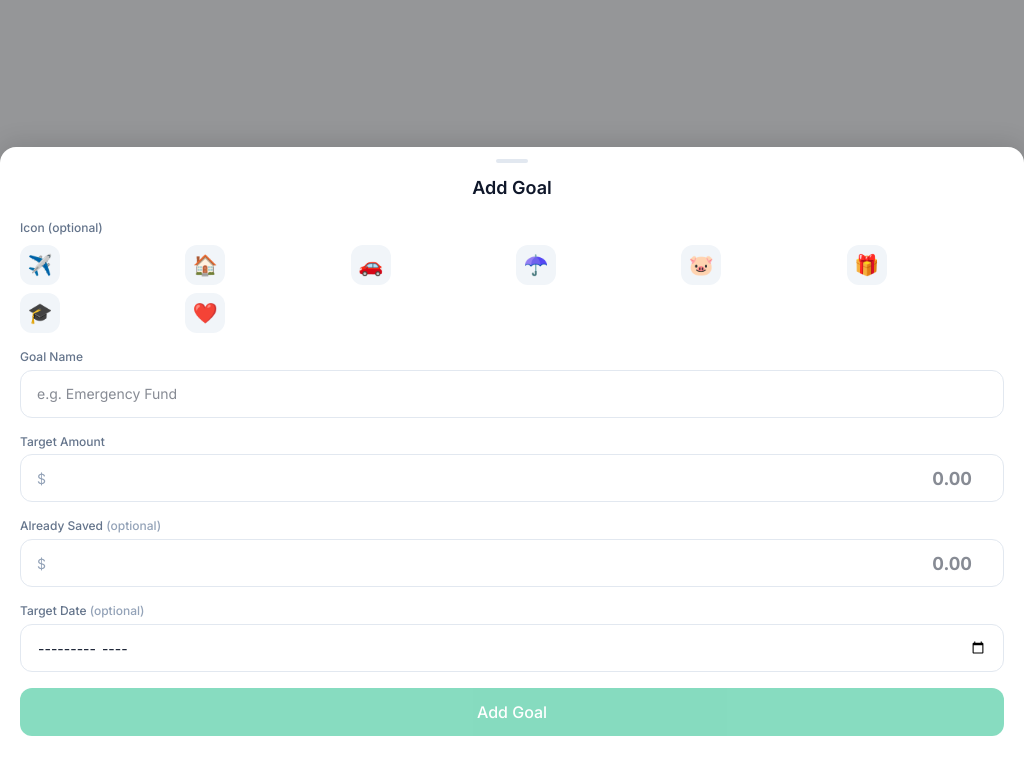
Test case: AddGoalSheet › shows current amount error when negative value entered
Type "-5" into the number field with test id "current-amount-input" at (526, 563), box [50,540,1003,586]
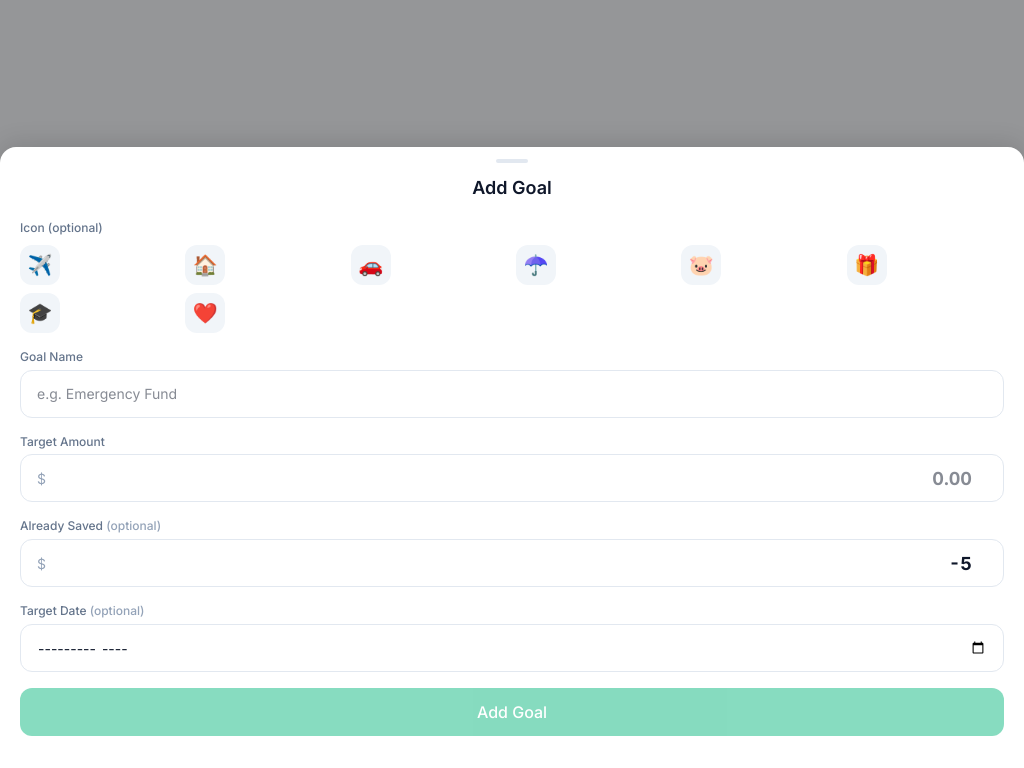
Leave the number field with test id "current-amount-input", box [50,540,1003,586]
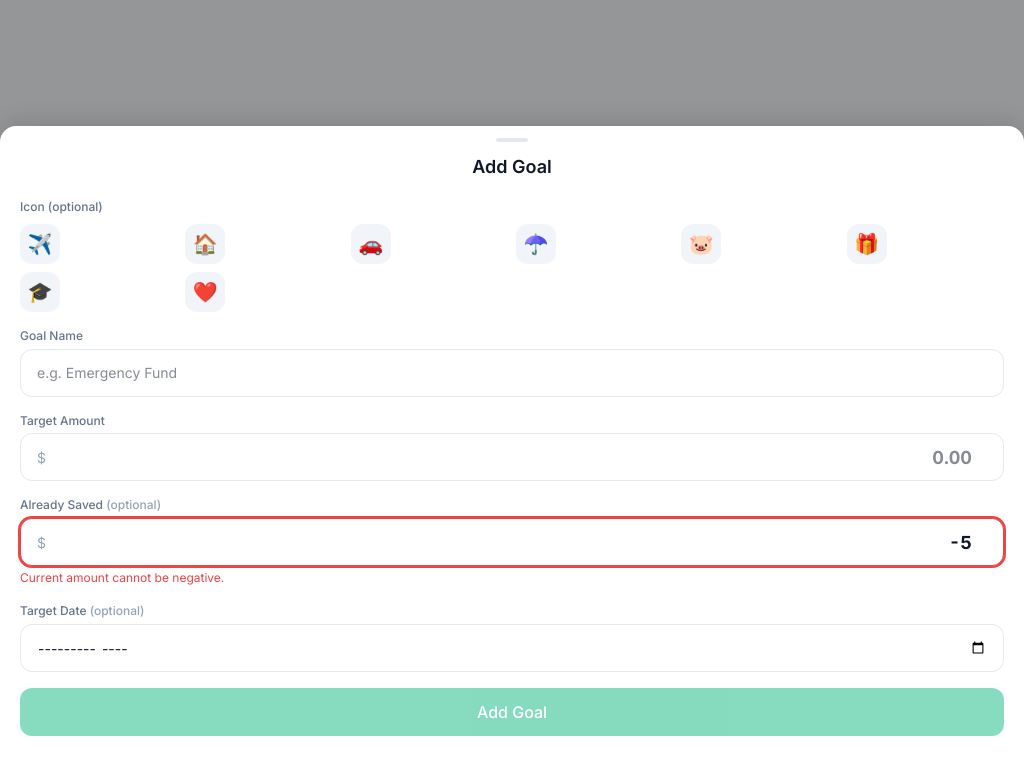
Result: the text "Current amount cannot be negative." is shown at [20,570,224,585]
